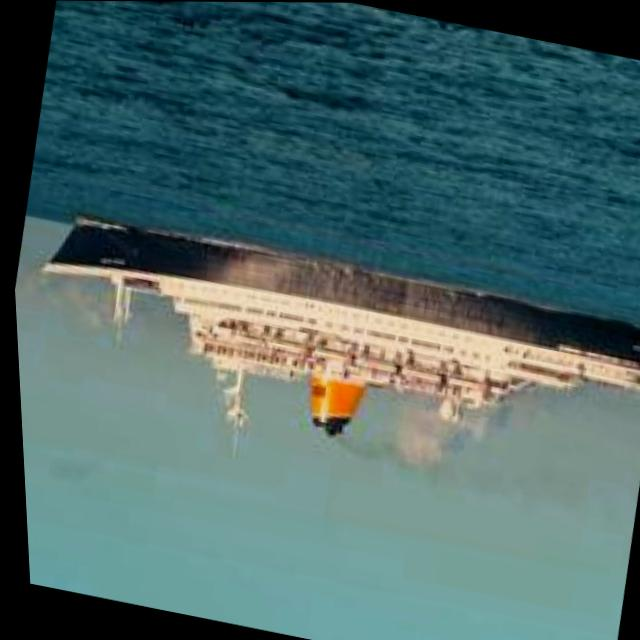ship2: (37, 214, 640, 454)
